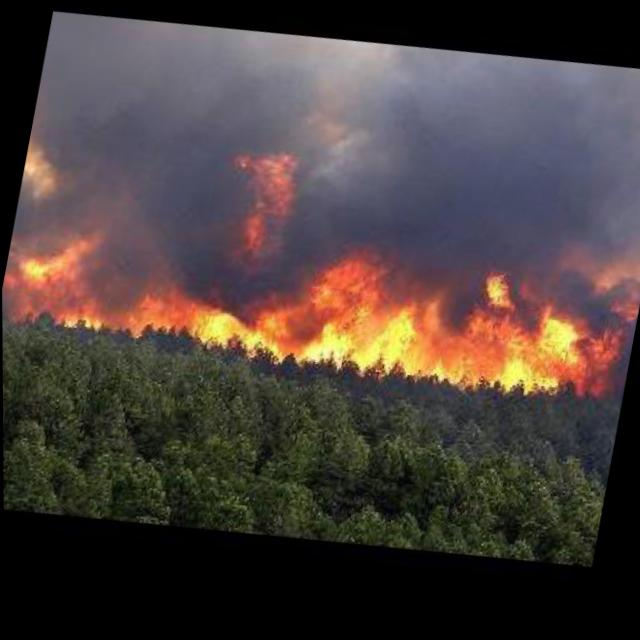Fire: (107, 189, 640, 456), (4, 210, 115, 343)
